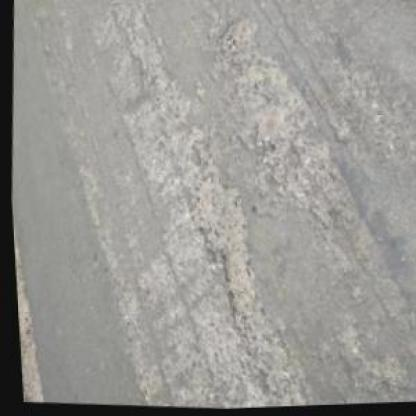pothole: (179, 176, 266, 322), (121, 35, 192, 133), (215, 16, 255, 62)
